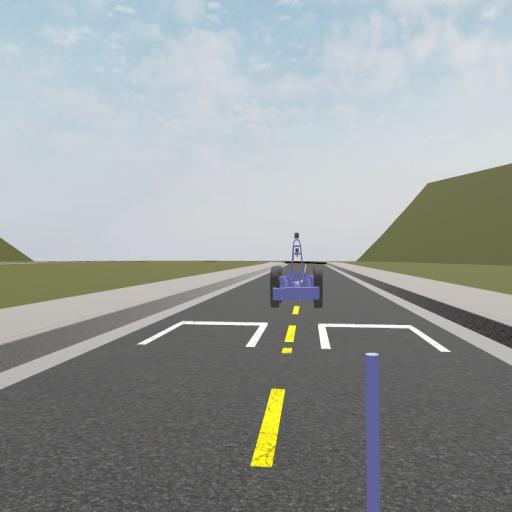ERP-42: (269, 231, 324, 307)
